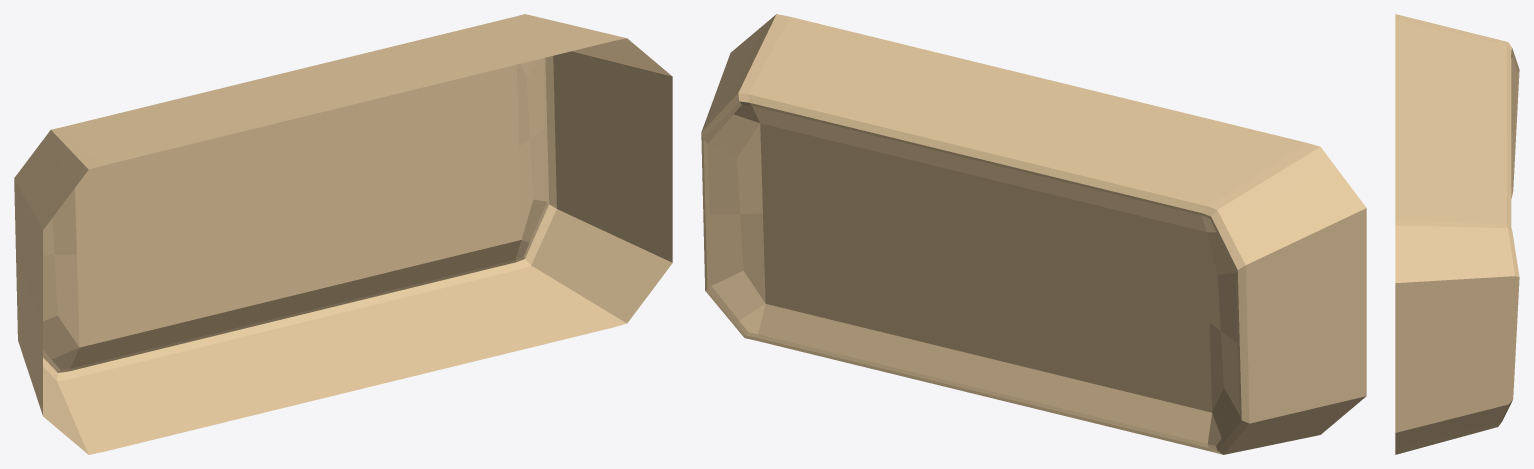
Rendered from lo-keycaplong.fbx.
3 views of the same model, side by side, from view 1: azimuth 30°, elevation 25°; view 2: azimuth 150°, elevation 25°; view 3: azimuth 270°, elevation 25° (orthographic). The views are drawn at different scales.
Visible parts, largest first — view 1: Cube; view 2: Cube; view 3: Cube.
Part boxes in pixels (left/top/right/bottom): Cube: left=14, top=14, right=672, bottom=454; Cube: left=701, top=14, right=1366, bottom=454; Cube: left=1395, top=14, right=1519, bottom=454.
Size of the model in its own units: 4.6 by 2 by 0.9765.
